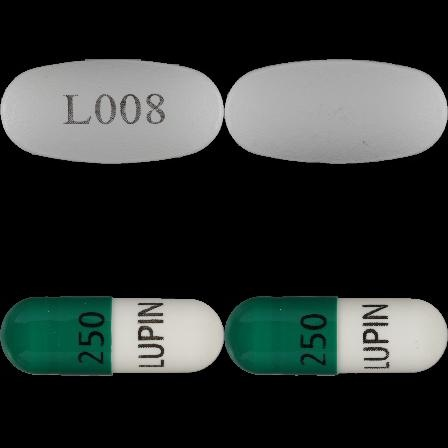68180-117: (0, 0, 224, 224)
